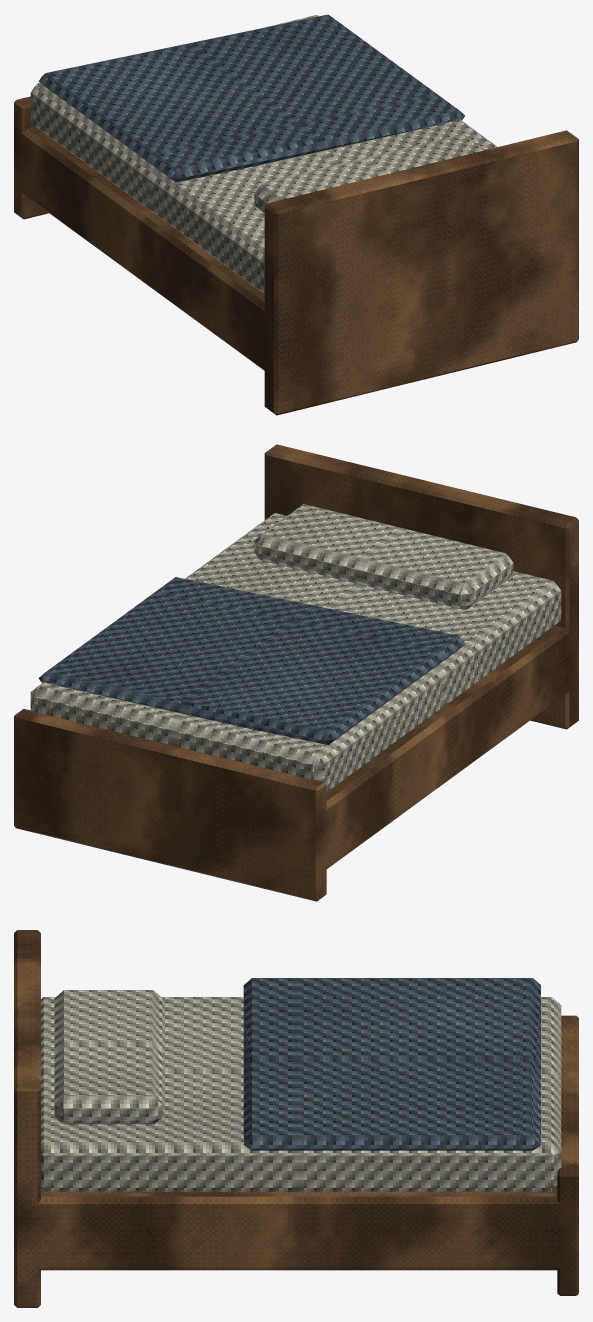
Rendered from int_bed.glb.
3 views of the same model, one above another, from view 1: azimuth 30°, elevation 25°; view 2: azimuth 150°, elevation 25°; view 3: azimuth 270°, elevation 25° (orthographic). The views are drawn at different scales.
Parts seen in each view (by area): view 1: int_bed_mesh; view 2: int_bed_mesh; view 3: int_bed_mesh.
Boxes of the visible parts, left/top/right/bottom form: int_bed_mesh: left=14, top=14, right=578, bottom=415; int_bed_mesh: left=14, top=444, right=578, bottom=901; int_bed_mesh: left=14, top=930, right=578, bottom=1307.
Size of what is drawn, in the model's own units: 1.4 by 0.9 by 2.09.
3 materials, 3 textured.
